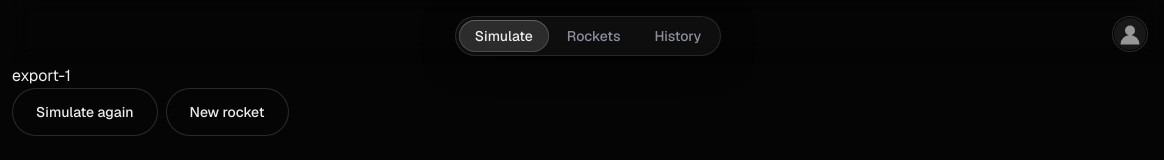
Scenario: ResultsActions (issue #52 — client island) › 'New rocket' can be cancelled without losing the draft
This screenshot has width=1164, height=160.
Expected: the text with test id "export-id" reads "export-1", [12,65,71,86]
Click the button "New rocket": {"x": 227, "y": 112} [166,88,288,136]
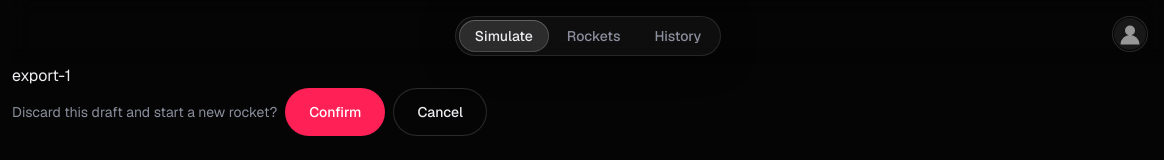
Click the button "Cancel": {"x": 440, "y": 112} [393,88,487,136]
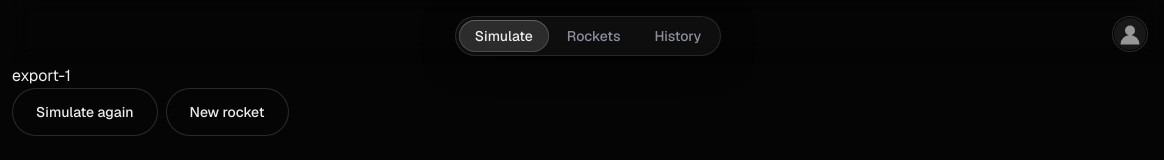
Expected: the text with test id "export-id" reads "export-1", [12,65,71,86]
Expected: the message "Discard this draft and start a new rocket?" is gone
Expected: the button "New rocket" is shown, [166,88,288,136]
